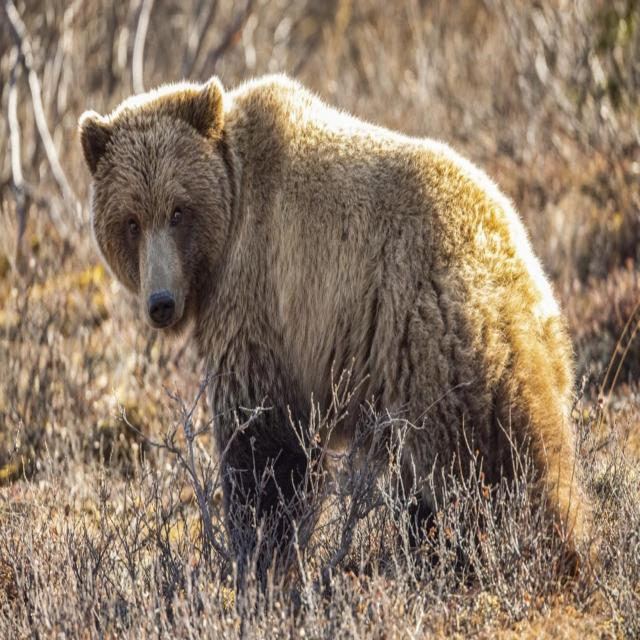Bear: (77, 75, 583, 561)
